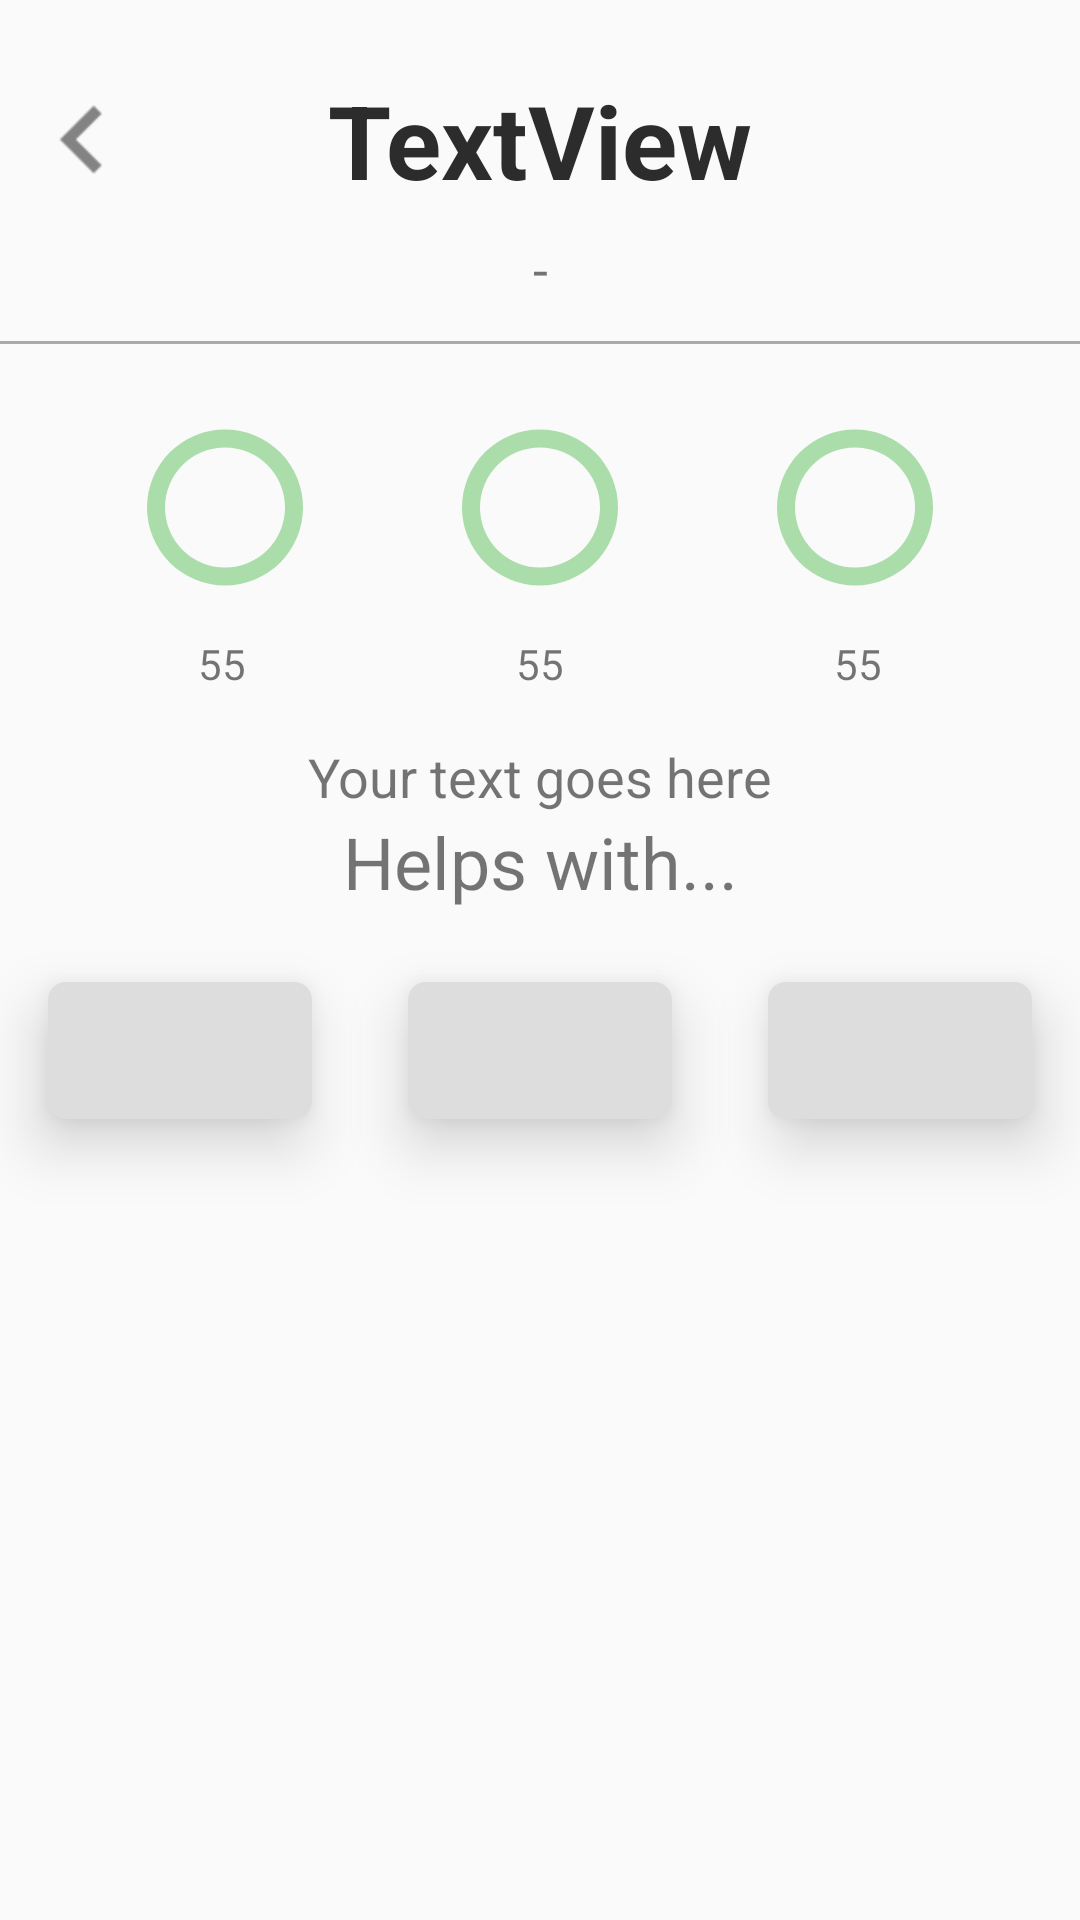

Named icons in this screenshot (1080px×1920px) and their bounding boxes, (x1, y1, x2, y2):
back: (60, 106, 102, 173)
